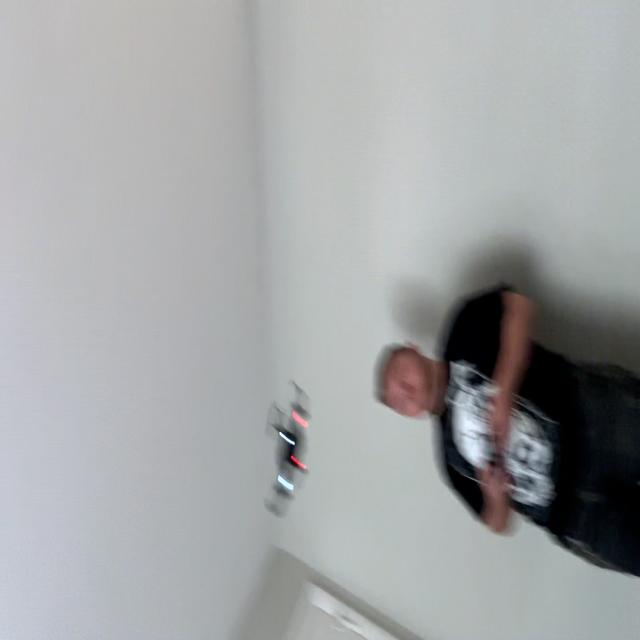drone: (259, 360, 317, 529)
